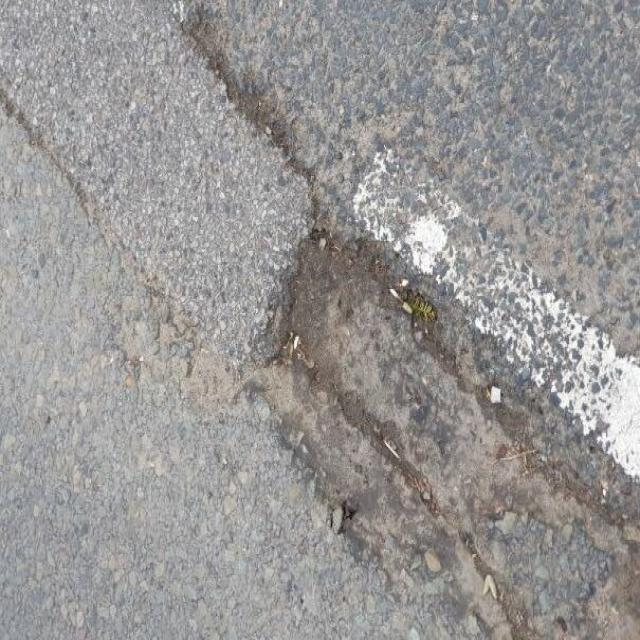Pothole: (238, 190, 553, 536)
